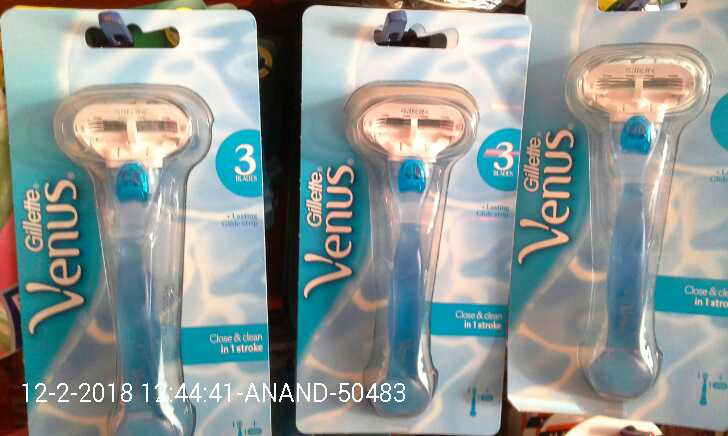venus: (55, 79, 227, 436), (561, 43, 708, 411), (333, 80, 482, 426)
